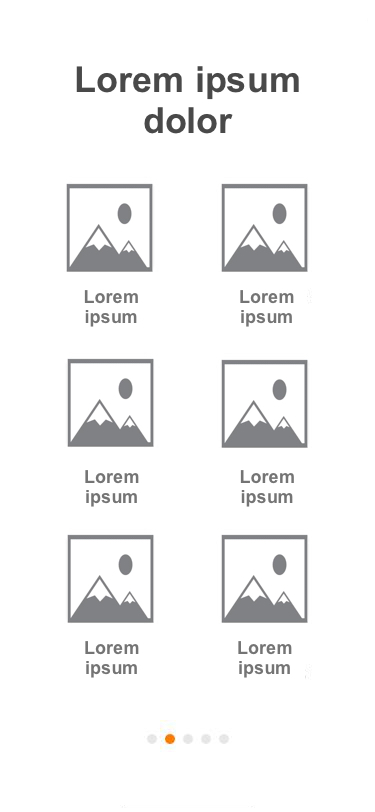Image: (67, 358, 155, 448), (221, 360, 309, 449), (67, 184, 154, 273), (221, 184, 308, 273), (68, 535, 155, 624), (221, 535, 308, 624)
PageIndicator: (146, 733, 231, 744)
Text: (76, 66, 300, 136), (84, 469, 140, 508), (240, 469, 295, 508), (238, 640, 293, 679), (84, 290, 140, 328), (239, 290, 294, 328), (85, 641, 140, 679)
